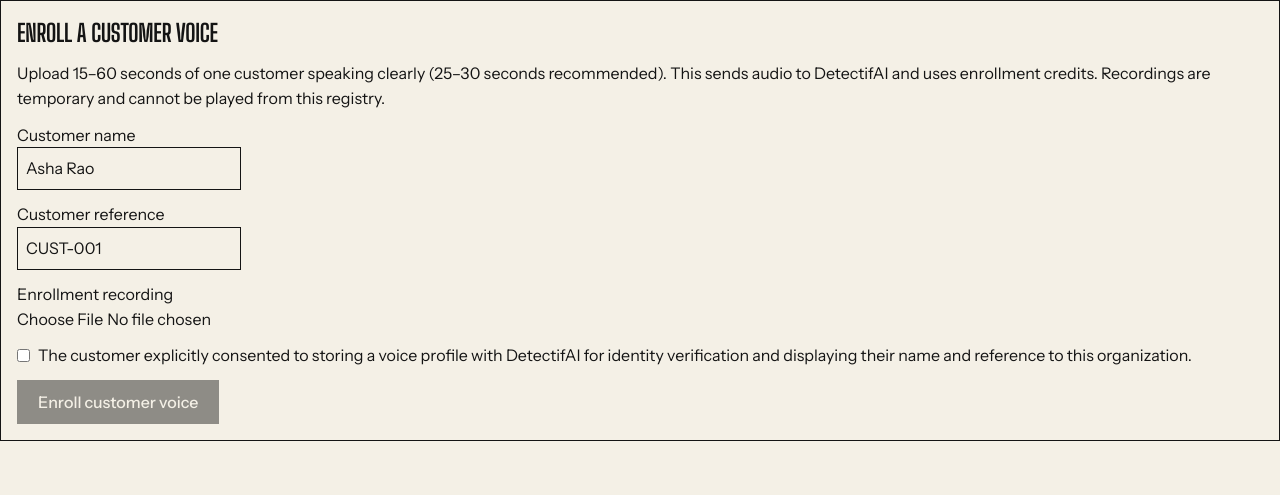
Test: shows provider failure without creating an enrollment in the displayed registry
This screenshot has width=1280, height=495.
Earlier steps of the test are not shown.
Click the checkbox: (24, 356) [17,343,30,368]
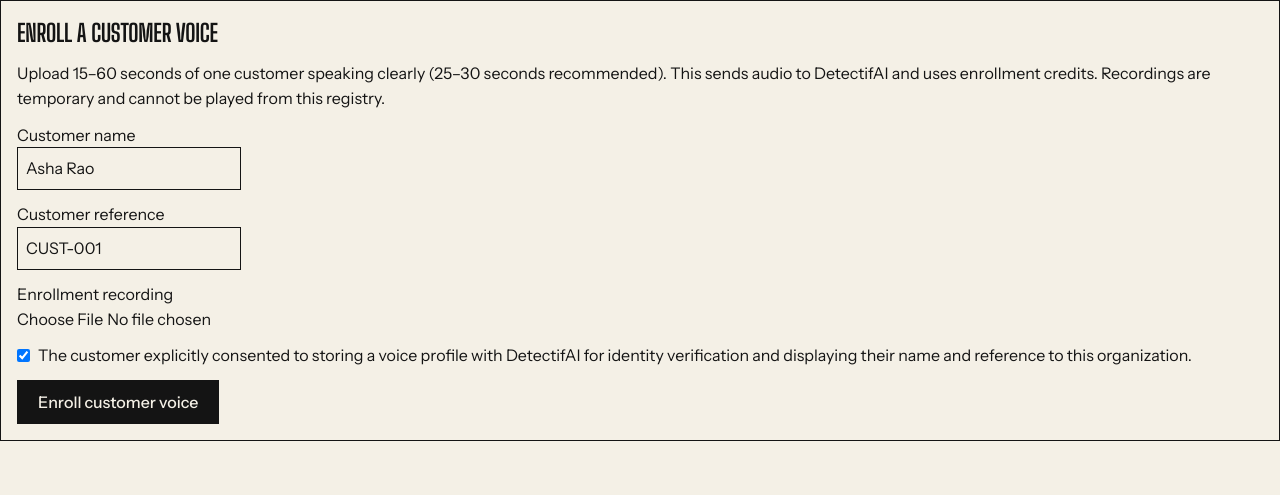
Submit the form named "Enroll customer voice"
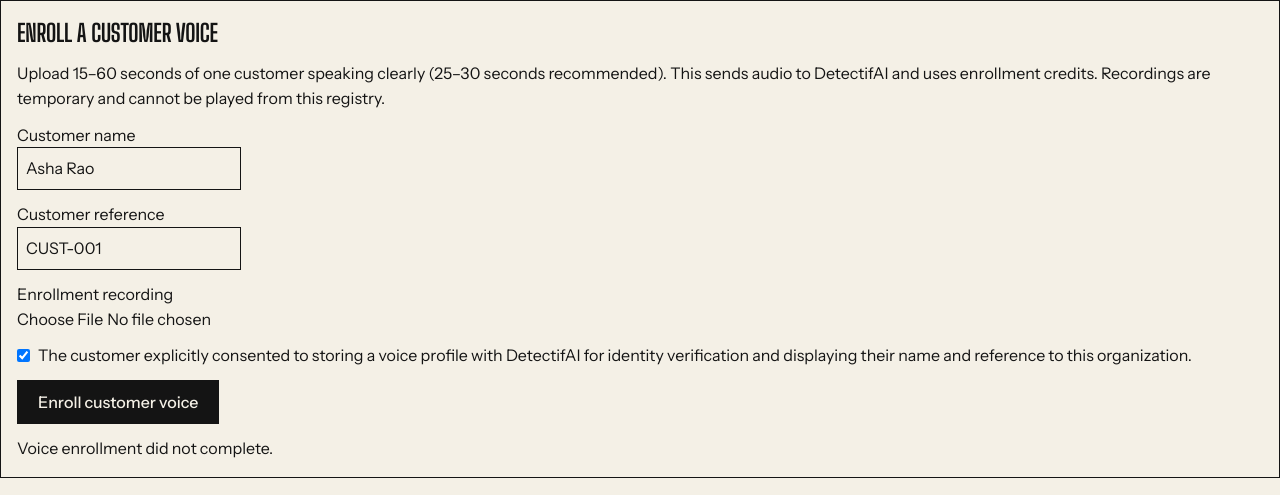
Expected: the message reads "Voice enrollment did not complete.", [17,438,273,458]
